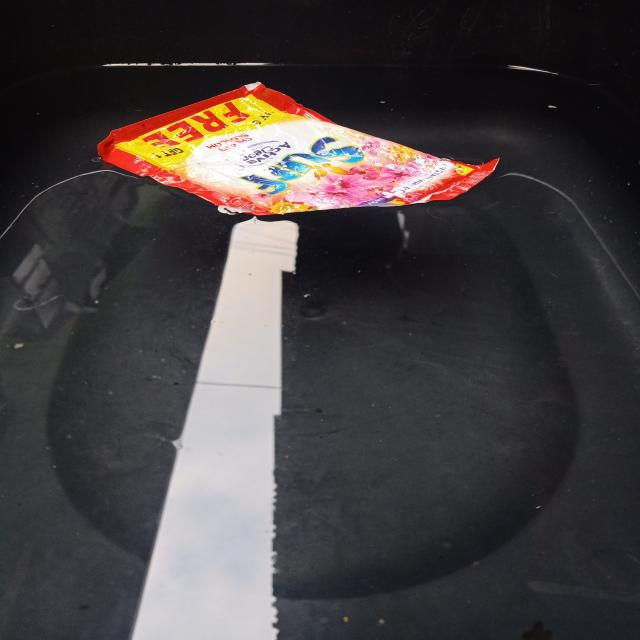Plastic Wrapper: (98, 83, 498, 215)
